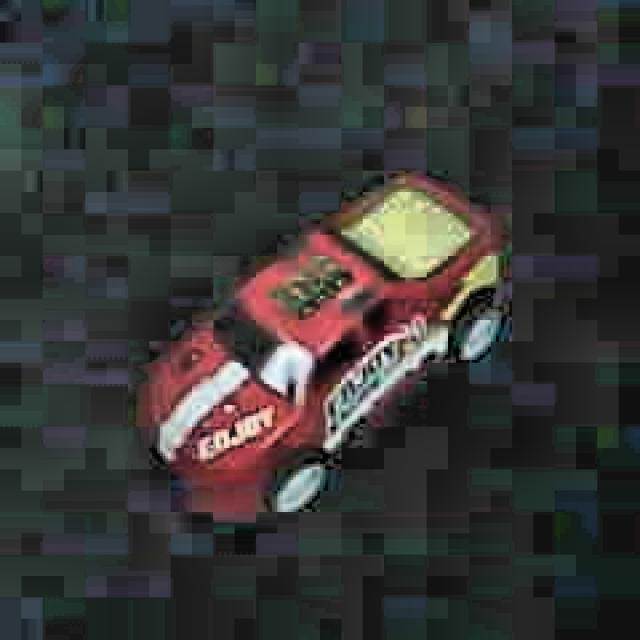car: (137, 170, 512, 520)
